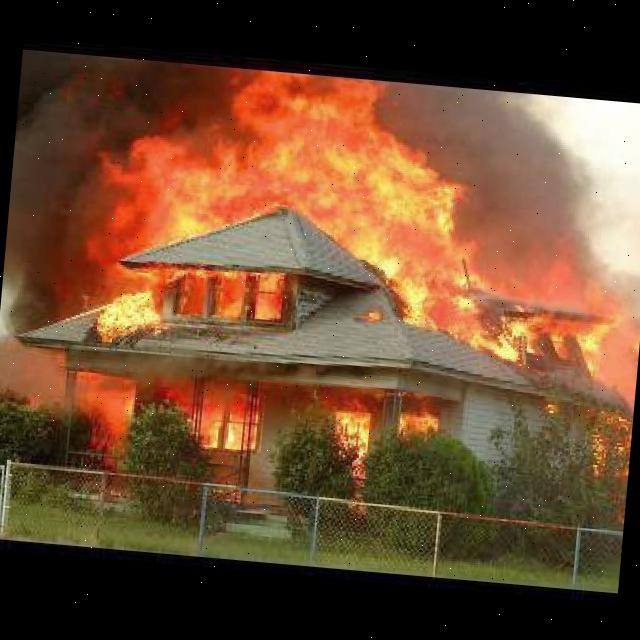fire: (60, 53, 640, 517)
